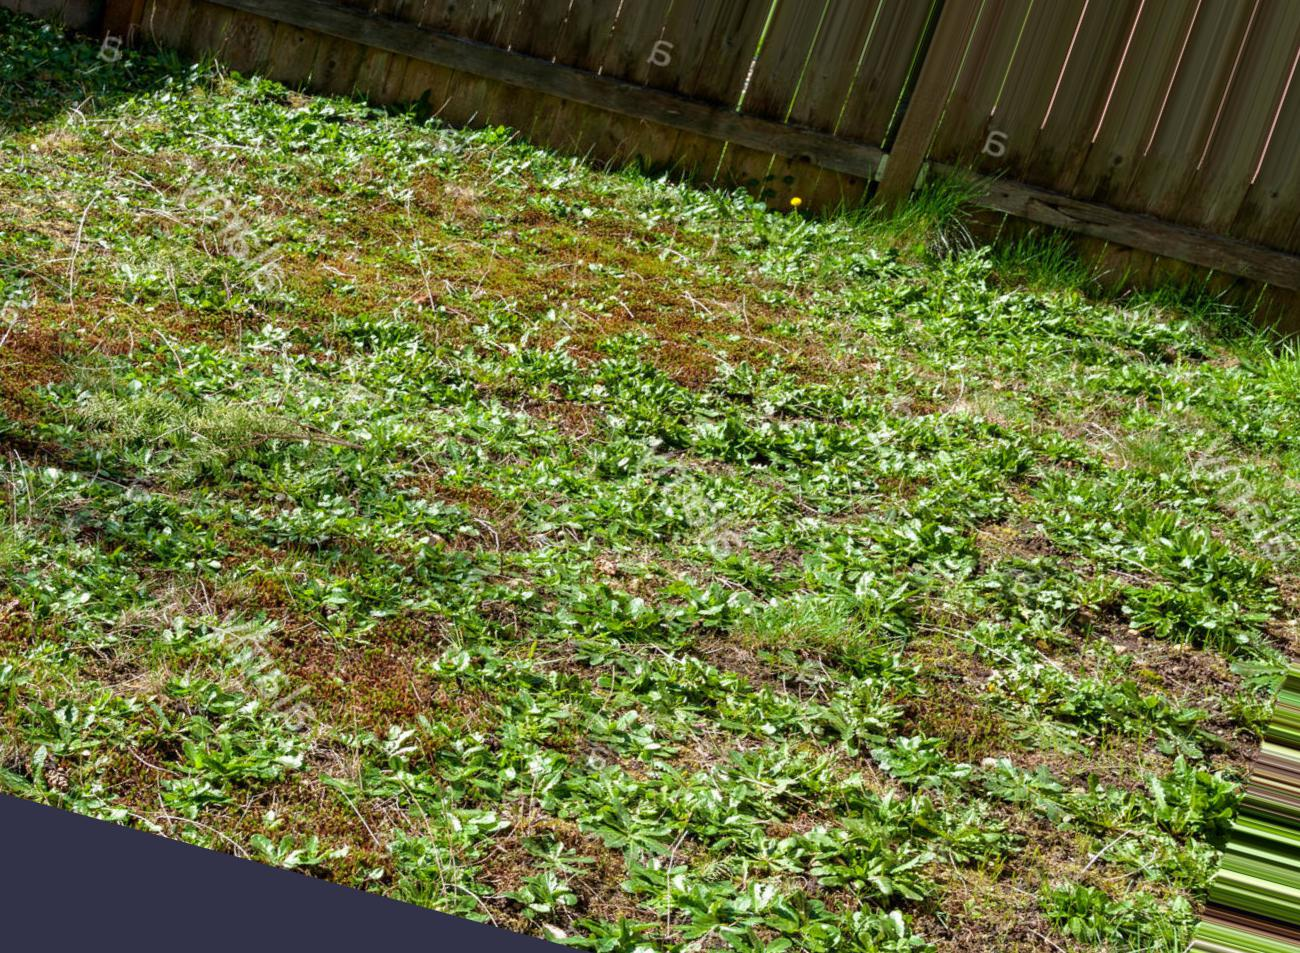patch: (532, 229, 670, 309), (332, 221, 435, 324), (300, 651, 427, 721), (57, 301, 182, 356), (642, 284, 732, 354), (240, 211, 275, 279), (910, 671, 952, 724)
